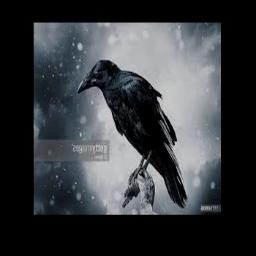Crow: (78, 59, 188, 208)
